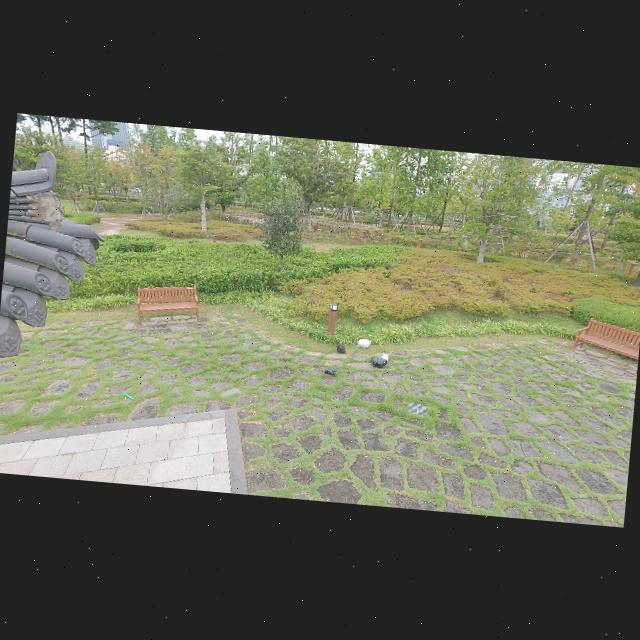trash: (370, 356, 388, 368), (356, 338, 370, 348), (335, 344, 346, 354), (324, 366, 337, 374), (379, 352, 388, 362)
